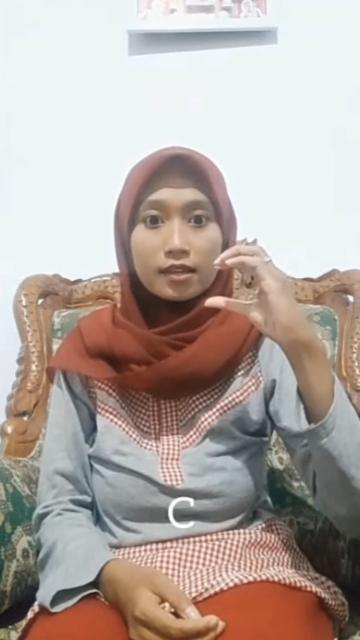C: (200, 237, 316, 357)
